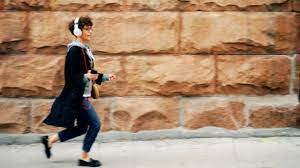person: (36, 14, 117, 167)
